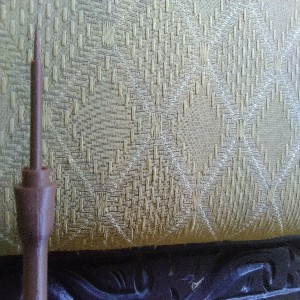solder: (13, 26, 58, 300)
